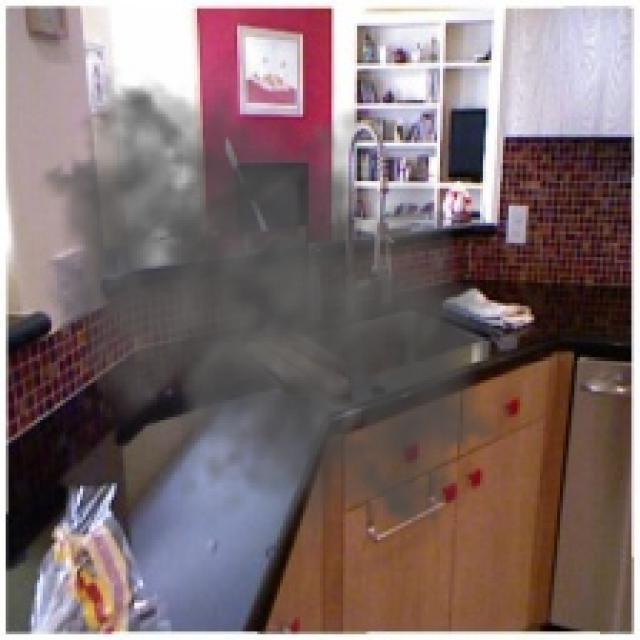Smoke: (9, 46, 532, 563)
